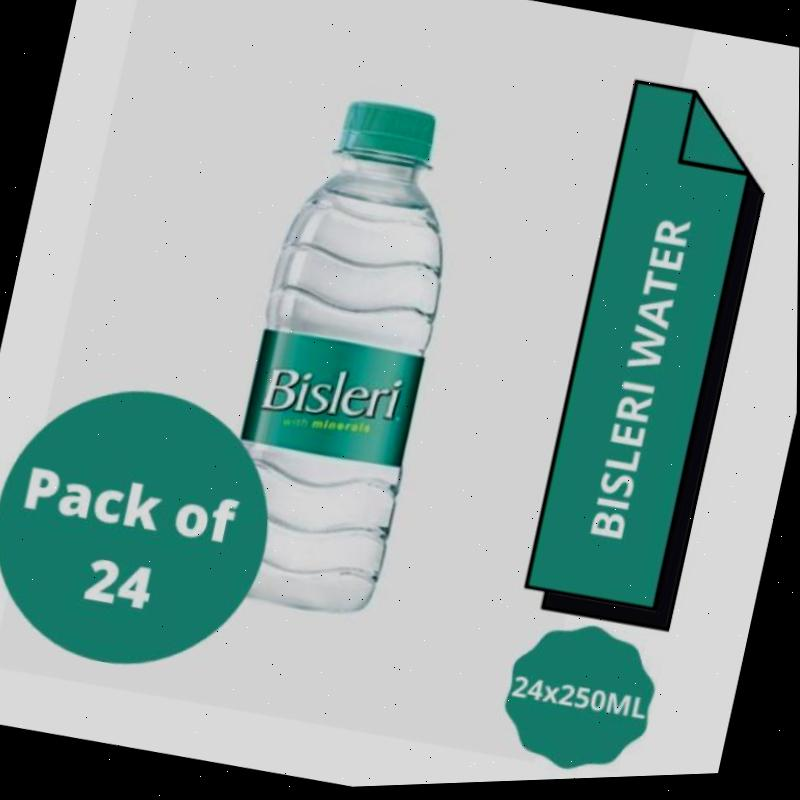botella: (202, 88, 481, 629)
